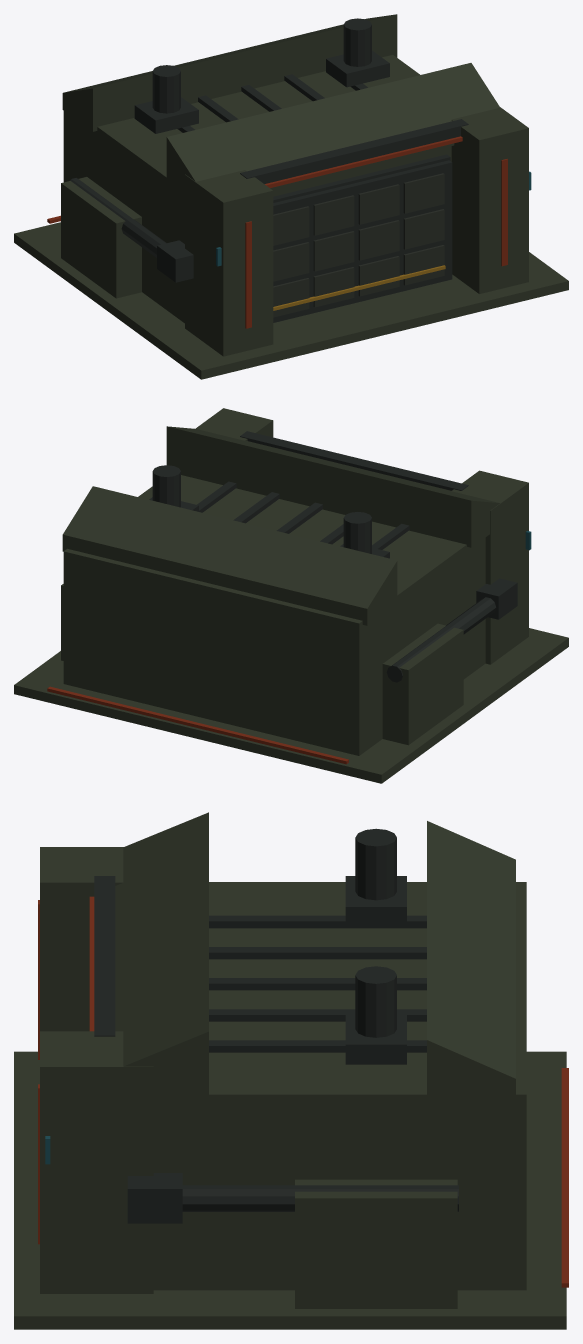
The model's file is Bastion_WarFactory_Articulated.glb.
3 renders of one model, top to bottom at view 1: azimuth 30°, elevation 25°; view 2: azimuth 150°, elevation 25°; view 3: azimuth 270°, elevation 25°, orthographic. The views are drawn at different scales.
Visible parts, largest first — view 1: Base, FactoryDoor; view 2: Base; view 3: Base.
Boxes of the visible parts, x1,y1,x2,y2 form: Base: (14,14,568,379); FactoryDoor: (273,160,452,322); Base: (14,408,568,783); Base: (14,812,568,1329).
Bounding box in the file's own units: 10.2 × 5.23 × 9.04.
1 material, 1 textured.
